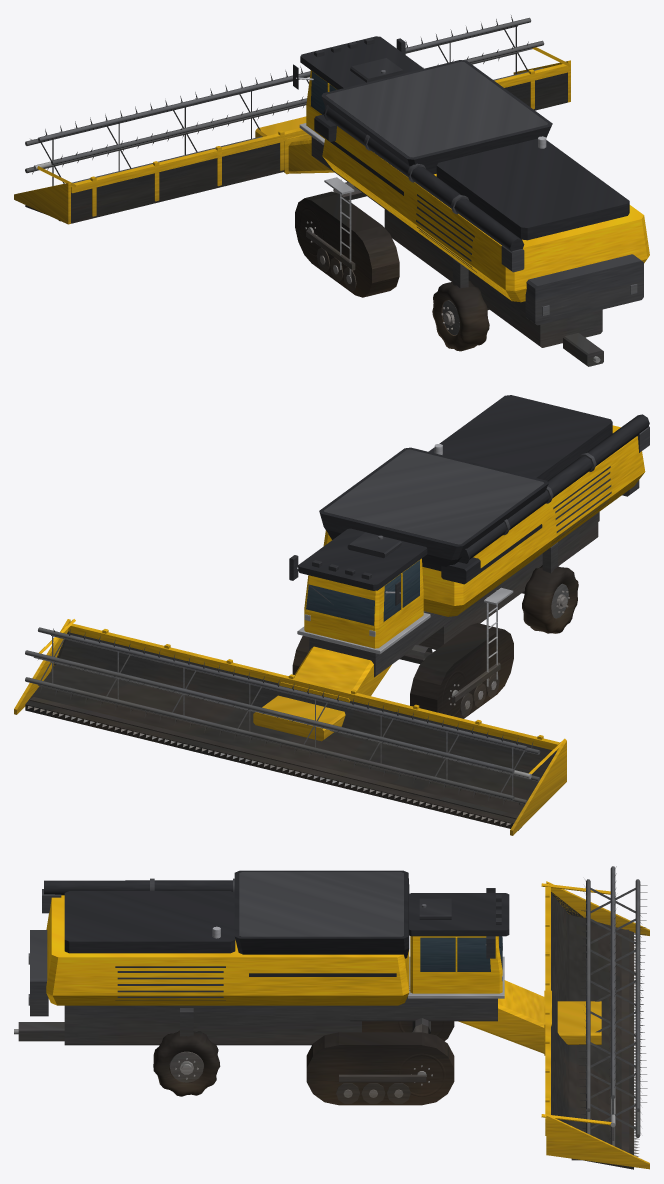
Rendered from Combine_Large_B.glb.
3 renders of one model, top to bottom at view 1: azimuth 30°, elevation 25°; view 2: azimuth 150°, elevation 25°; view 3: azimuth 270°, elevation 25°, orthographic. The views are drawn at different scales.
Visible parts, largest first — view 1: Combine_Large_B, Reel, Unload_Auger, Wheel_RL; view 2: Combine_Large_B, Reel, Unload_Auger, Wheel_RL; view 3: Combine_Large_B, Reel, Wheel_RR, Unload_Auger.
Boxes of the visible parts, <box> form: Combine_Large_B: <box>14,36,649,366</box>; Reel: <box>25,15,544,186</box>; Unload_Auger: <box>323,105,524,272</box>; Wheel_RL: <box>432,280,489,351</box>; Combine_Large_B: <box>14,395,645,835</box>; Reel: <box>25,627,540,804</box>; Unload_Auger: <box>458,414,649,563</box>; Wheel_RL: <box>522,565,578,633</box>; Combine_Large_B: <box>18,870,649,1169</box>; Reel: <box>579,866,647,1146</box>; Wheel_RR: <box>153,1030,220,1096</box>; Unload_Auger: <box>42,878,234,913</box>.
Bounding box in the file's own units: 12.04 × 3.99 × 13.8.
Materials: 1 (1 with a texture image).
